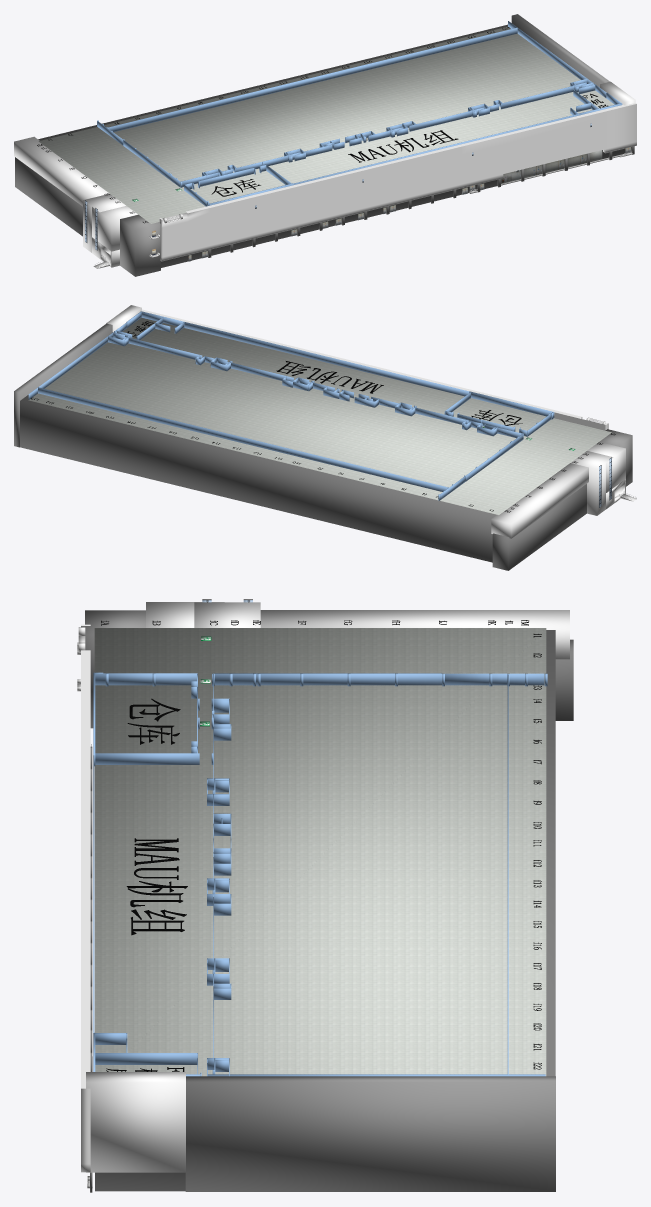
File: 5f_mini.gltf
The picture shows the model from 3 angles, top to bottom: view 1: azimuth 30°, elevation 25°; view 2: azimuth 150°, elevation 25°; view 3: azimuth 270°, elevation 25°; orthographic projection. The views are drawn at different scales.
Parts seen in each view (by area): view 1: fab_n1_dimian_4f, fab_n1_waiguan_4_57, fab_n1_waiguan_4_51, fab_n1_qiang_4f_116, fab_n1_waiguan_4_56, fab_n1_waiguan_4_47, fab_n1_waiguan_4_49, fab_n1_waiguan_4_50, fab_n1_waiguan_4_25, fab_n1_waiguan_4_72, fab_n1_qiang_4f_23, MAU (+6 smaller); view 2: fab_n1_dimian_4f, fab_n1_waiguan_4_51, fab_n1_waiguan_4_49, fab_n1_waiguan_4_56, fab_n1_qiang_4f_116, fab_n1_qiang_4f_23, fab_n1_waiguan_4_50, fab_n1_waiguan_4_57, fab_n1_waiguan_4_72, fab_n1_waiguan_4_25, fab_n1_waiguan_4_47, MAU (+6 smaller); view 3: fab_n1_dimian_4f, fab_n1_waiguan_4_50, fab_n1_waiguan_4_48, fab_n1_waiguan_4_51, fab_n1_waiguan_4_56, fab_n1_waiguan_4_57, fab_n1_qiang_4f_35, MAU, fab_n1_waiguan_4_72, fab_n1_waiguan_4_47, fab_n1_waiguan_4_25, fab_n1_qiang_4f_21 (+5 smaller).
Boxes of the visible parts, x1,y1,x2,y2 form: fab_n1_dimian_4f: (38,26,614,223); fab_n1_waiguan_4_57: (159,103,636,261); fab_n1_waiguan_4_51: (38,24,631,267); fab_n1_qiang_4f_116: (108,27,517,132); fab_n1_waiguan_4_56: (14,136,109,206); fab_n1_waiguan_4_47: (120,214,160,276); fab_n1_waiguan_4_49: (15,157,82,236); fab_n1_waiguan_4_50: (511,14,609,87); fab_n1_waiguan_4_25: (92,206,137,251); fab_n1_waiguan_4_72: (83,193,125,252); fab_n1_qiang_4f_23: (293,114,578,184); MAU: (348,130,458,162); fab_n1_dimian_4f: (28,317,611,514); fab_n1_waiguan_4_51: (20,395,496,562); fab_n1_waiguan_4_49: (492,484,586,570); fab_n1_waiguan_4_56: (491,463,588,538); fab_n1_qiang_4f_116: (38,387,447,491); fab_n1_qiang_4f_23: (184,322,469,396); fab_n1_waiguan_4_50: (14,323,112,447); fab_n1_waiguan_4_57: (141,309,608,430); fab_n1_waiguan_4_72: (571,451,613,515); fab_n1_waiguan_4_25: (587,442,625,492); fab_n1_waiguan_4_47: (599,429,632,486); MAU: (276,361,383,393); fab_n1_dimian_4f: (94,628,546,1076); fab_n1_waiguan_4_50: (185,1076,555,1191); fab_n1_waiguan_4_48: (86,1072,185,1172); fab_n1_waiguan_4_51: (95,630,555,1191); fab_n1_waiguan_4_56: (260,610,569,659); fab_n1_waiguan_4_57: (81,624,90,1172); fab_n1_qiang_4f_35: (214,673,442,685); MAU: (126,838,187,935); fab_n1_waiguan_4_72: (194,602,260,627); fab_n1_waiguan_4_47: (85,610,145,728); fab_n1_waiguan_4_25: (146,602,224,627); fab_n1_qiang_4f_21: (95,753,199,764).
Bounding box in the file's own units: 349 × 35.16 × 144.
42 materials, 31 textured.
